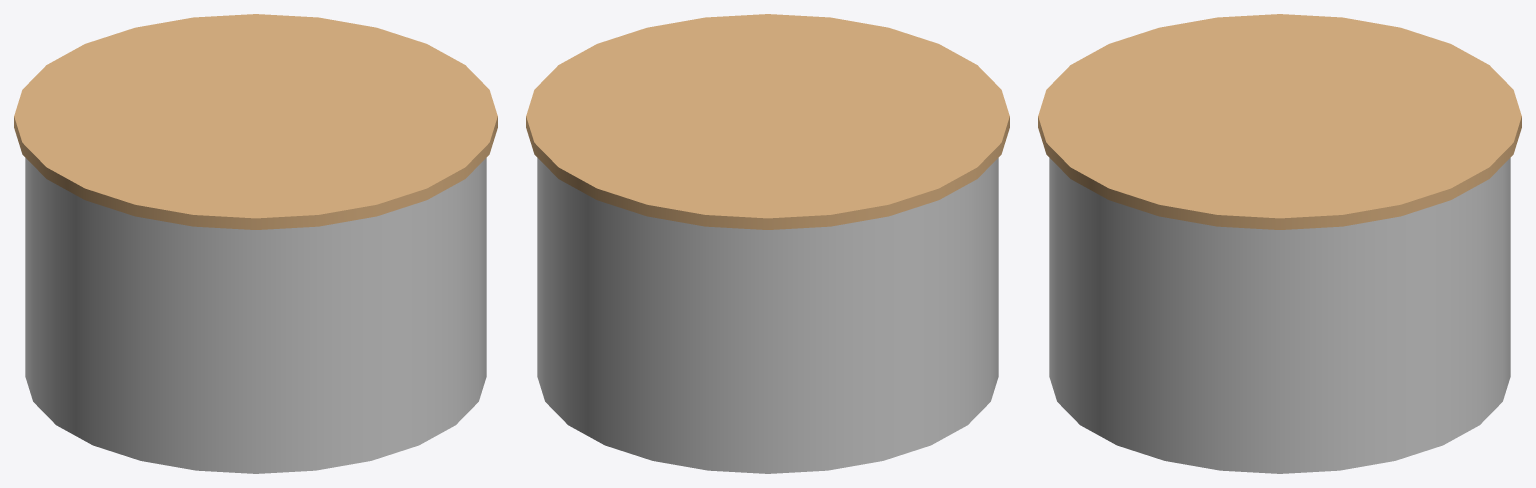
Rendered from stand3.fbx.
The picture shows the model from 3 angles, left to right: view 1: azimuth 30°, elevation 25°; view 2: azimuth 150°, elevation 25°; view 3: azimuth 270°, elevation 25°; orthographic projection.
Visible parts, largest first — view 1: Cylinder.003; view 2: Cylinder.003; view 3: Cylinder.003.
Part boxes in pixels (<box>): Cylinder.003: <box>14,14,497,473</box>; Cylinder.003: <box>526,14,1009,473</box>; Cylinder.003: <box>1038,14,1521,473</box>.
Size of the model in its own units: 2.1 by 1.24 by 2.1.
